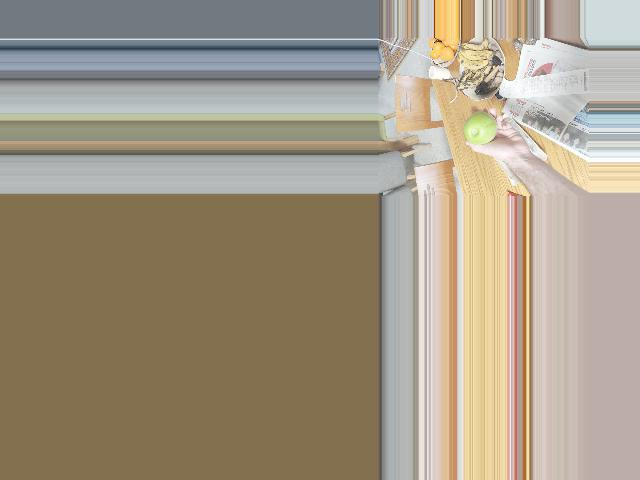apple: (463, 112, 498, 145)
